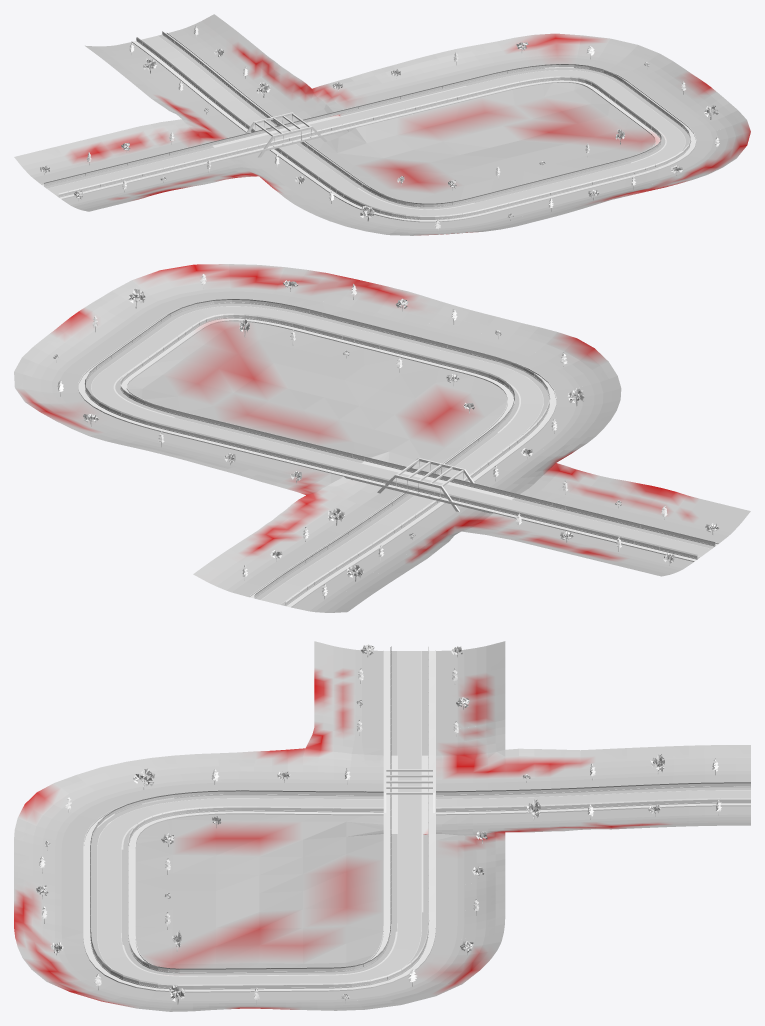
3 renders of one model, top to bottom at view 1: azimuth 30°, elevation 25°; view 2: azimuth 150°, elevation 25°; view 3: azimuth 270°, elevation 25°, orthographic. The views are drawn at different scales.
Visible parts, largest first — view 1: Grass, Road, Track, Wirefence, Trees; view 2: Grass, Road, Track, Wirefence, Trees; view 3: Grass, Road, Track, Wirefence, Trees.
Boxes of the visible parts, box(x1,y1,x2,y2) form: Grass: box(14, 14, 750, 235); Road: box(47, 35, 685, 215); Track: box(41, 32, 696, 222); Wirefence: box(44, 31, 690, 219); Trees: box(40, 25, 719, 230); Grass: box(14, 264, 750, 612); Road: box(91, 306, 711, 604); Track: box(78, 299, 718, 607); Wirefence: box(85, 299, 715, 604); Trees: box(53, 274, 718, 599); Grass: box(14, 641, 750, 1011); Road: box(97, 651, 750, 984); Track: box(83, 650, 750, 992); Wirefence: box(90, 646, 750, 988); Trees: box(36, 644, 721, 1004).
Size of what is drawn, in the model's own units: 64000 by 2490 by 54000.
